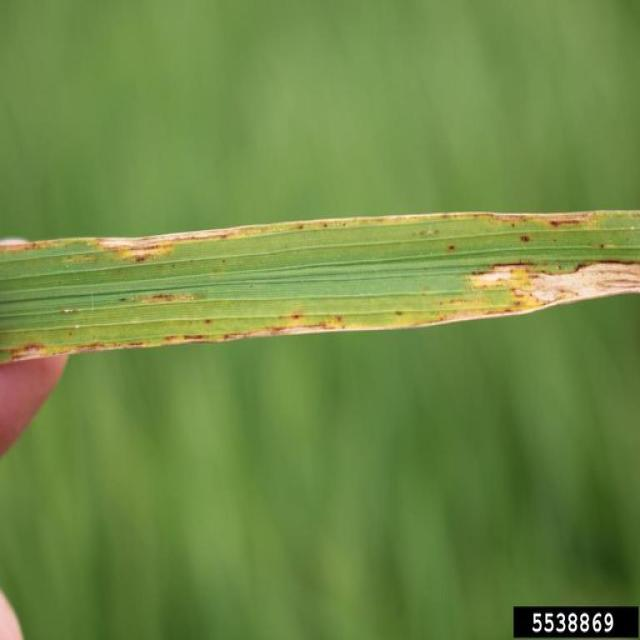Bacterial leaf blight: (2, 243, 640, 360), (3, 205, 625, 267)
